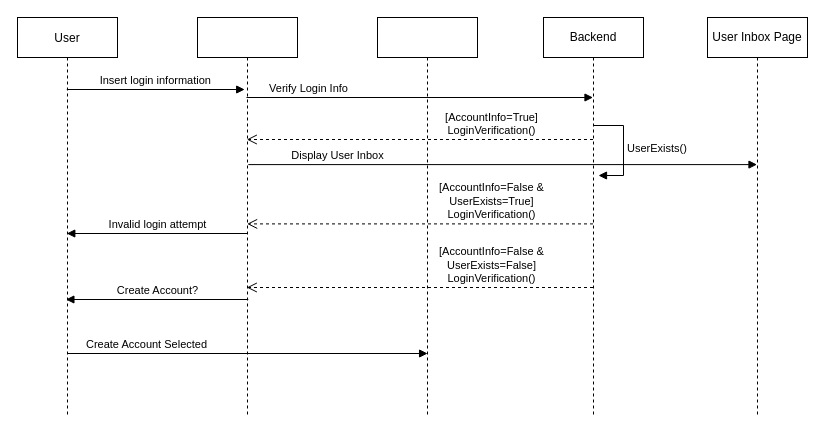
This 825x435 diagram has some shape labels left out. The box of each missing label's shape, as (x1, y1, x2, y2) in pixels:
Create Account Page: (376, 16, 478, 418)
Login: (196, 16, 298, 418)
